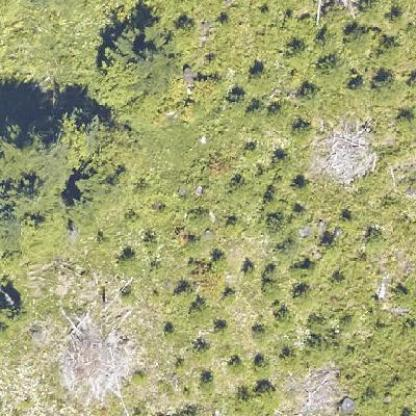tree-top: (53, 108, 149, 176), (110, 21, 178, 94), (340, 20, 374, 55), (289, 174, 314, 200), (291, 283, 317, 306), (316, 55, 340, 76), (224, 353, 246, 374)
